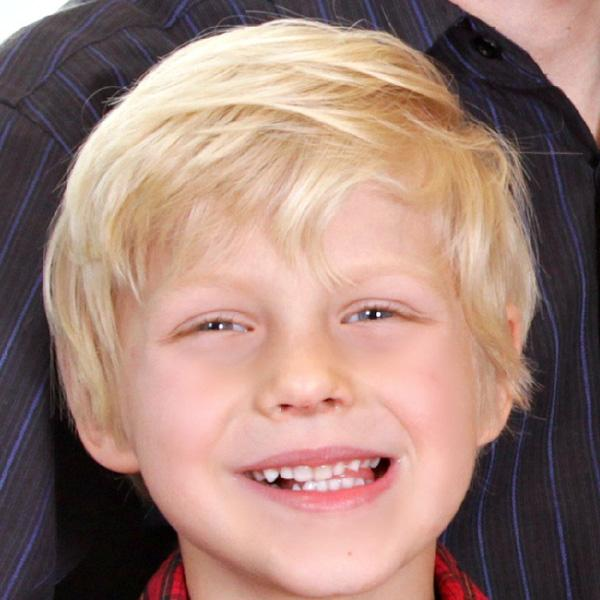Eyes: (160, 298, 265, 356), (323, 286, 424, 342)
